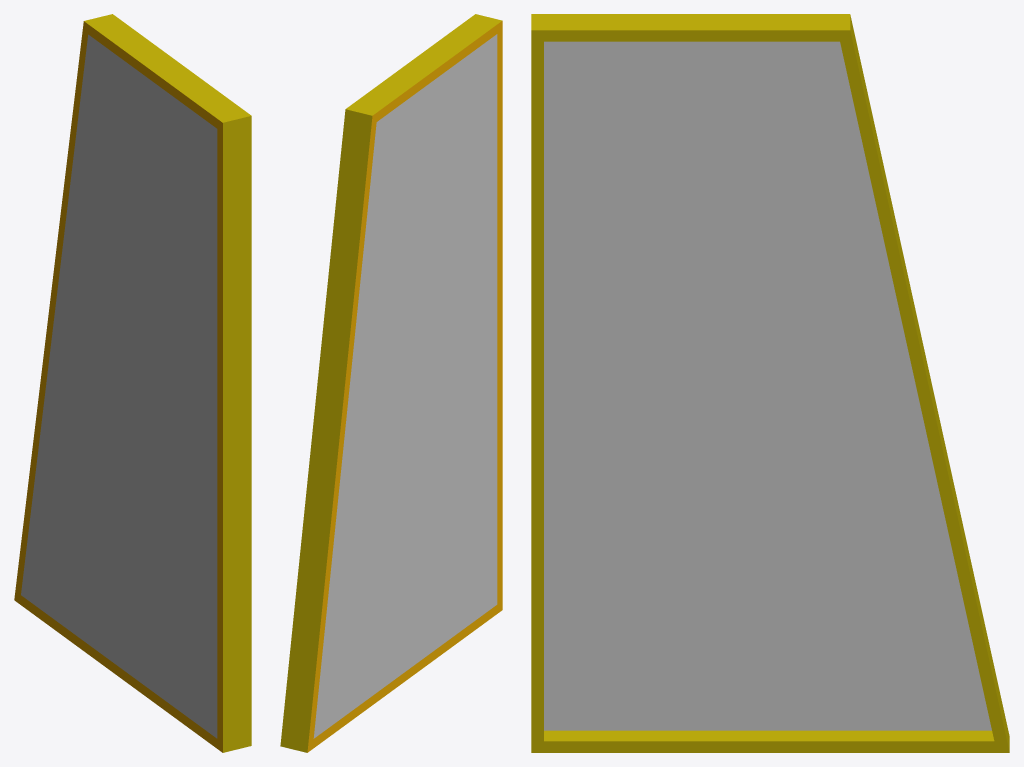
Rendered from window_slanted_interface_3x1x5.dae.
3 views of the same model, side by side, from view 1: azimuth 30°, elevation 25°; view 2: azimuth 150°, elevation 25°; view 3: azimuth 270°, elevation 25° (orthographic). The views are drawn at different scales.
Visible parts, largest first — view 1: Cube; view 2: Cube; view 3: Cube.
Part boxes in pixels (<box>): Cube: <box>14,14,251,752</box>; Cube: <box>280,14,502,752</box>; Cube: <box>531,14,1009,752</box>.
Bounding box in the file's own units: 0.06 × 0.75 × 1.25.
